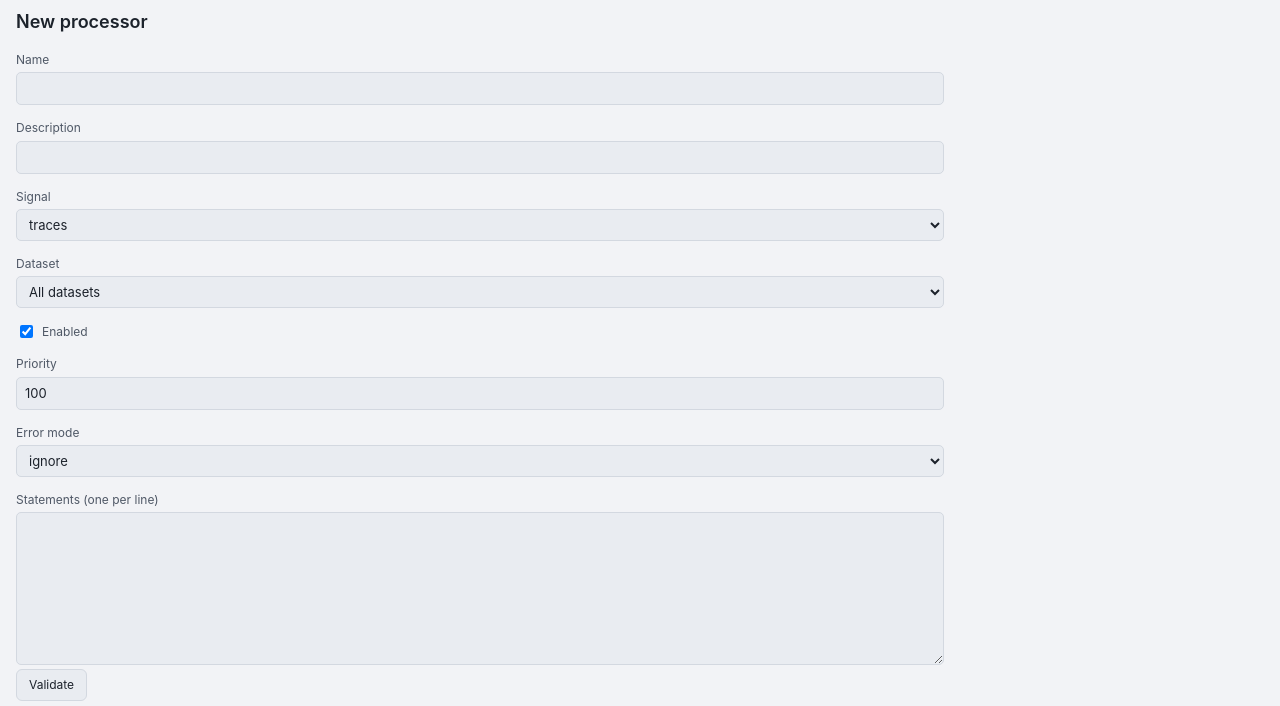
Test: ProcessorEditor › enables Save once validation passes
The width and height of the screenshot is (1280, 706).
Step 1. Type "my-processor" into the field labelled "Name" → (480, 89), box x1=16 y1=72 x2=944 y2=105
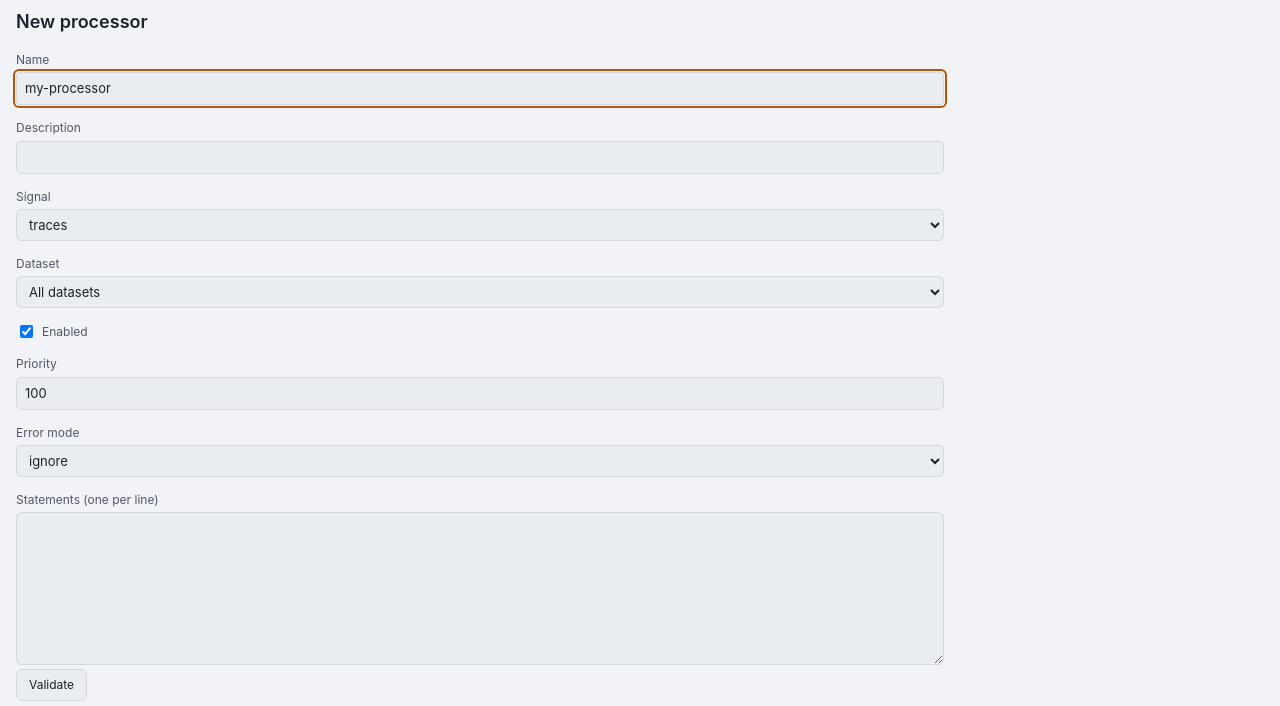
Step 2. Type "set(attributes[\"a\"], \"1\")" into the text box labelled "Statements (one per line)" → (480, 589), box x1=16 y1=512 x2=944 y2=666
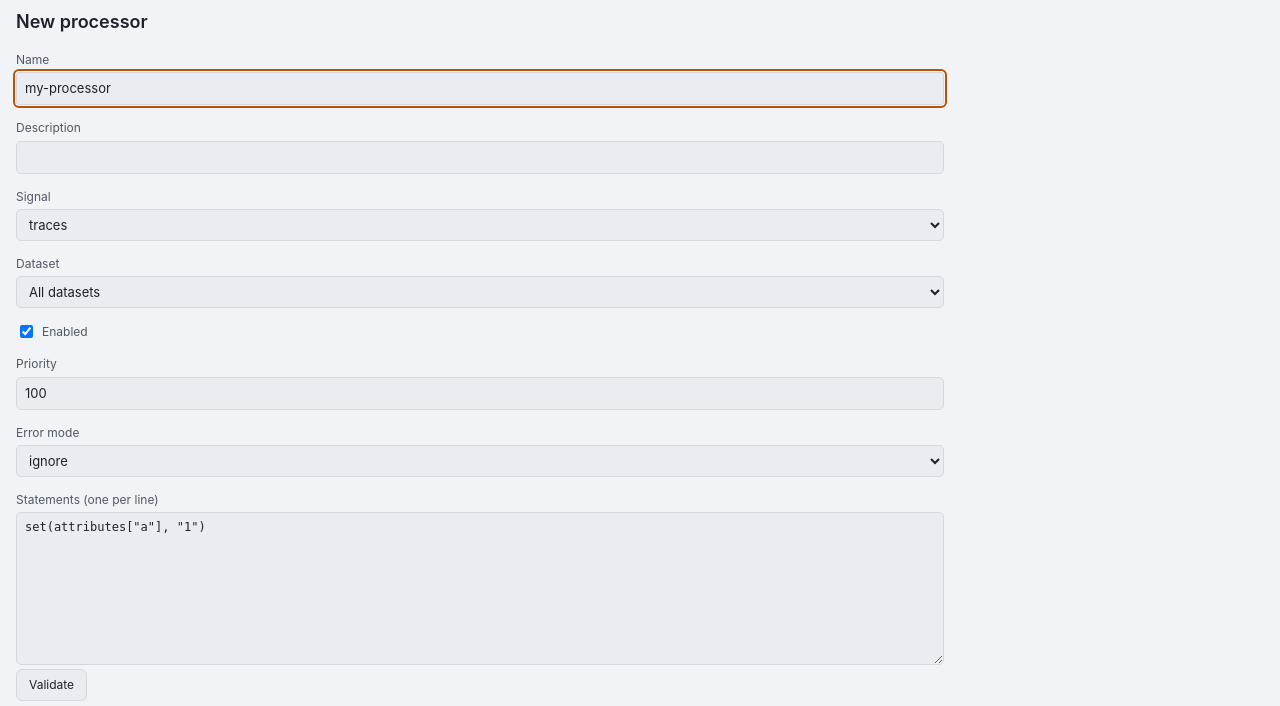
Step 3. Click the button "Validate" → (52, 685), box x1=16 y1=670 x2=87 y2=701
(page scrolled)
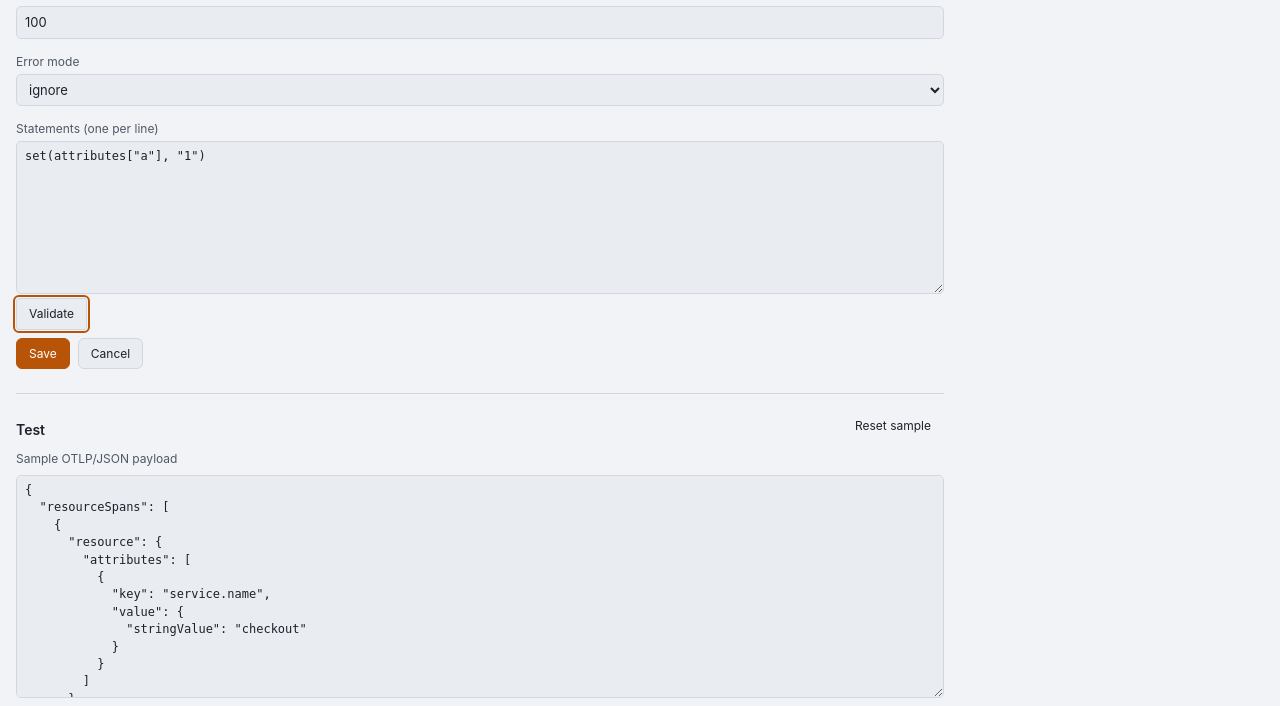
Now the button "Save" is enabled, box x1=16 y1=338 x2=70 y2=369
